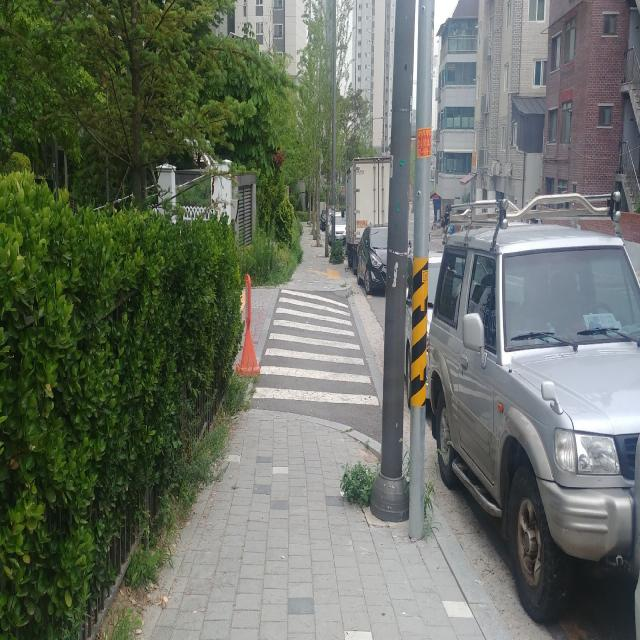횡단보도: (251, 287, 380, 408)
